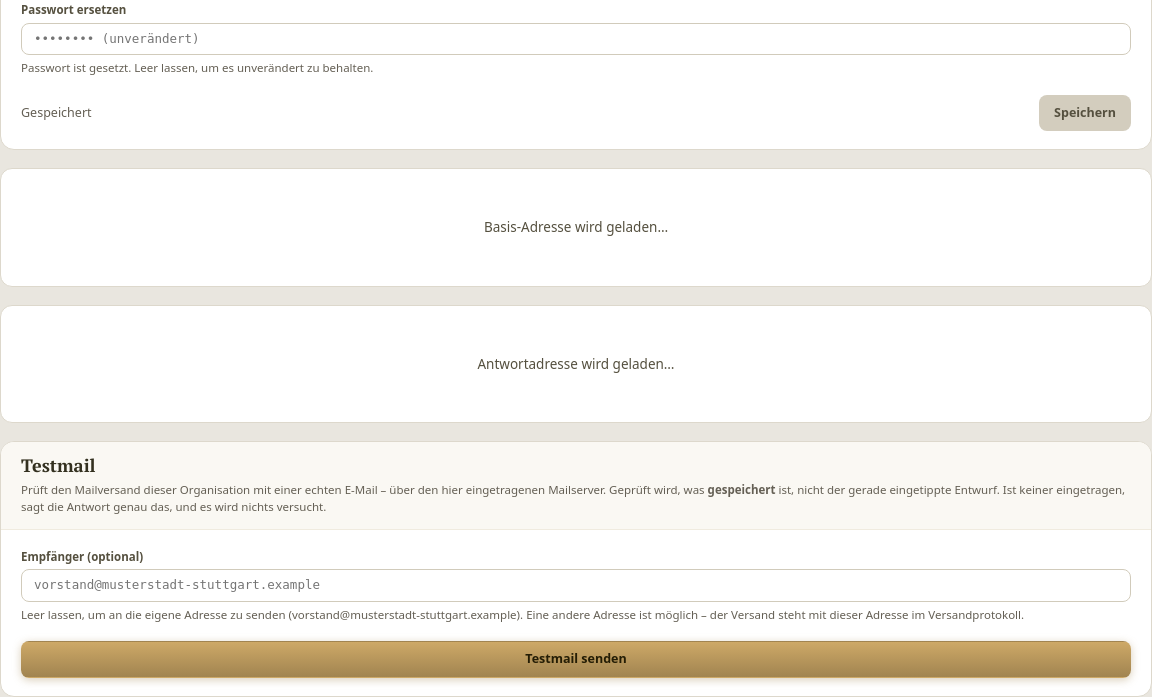
Test: MailIdentityCard › Testmail › shows the failure reason the server sent, without inventing one
The width and height of the screenshot is (1152, 697).
(page scrolled)
Step 1. Click the button "Testmail senden" → (576, 660), box [21, 641, 1131, 678]
(page scrolled)
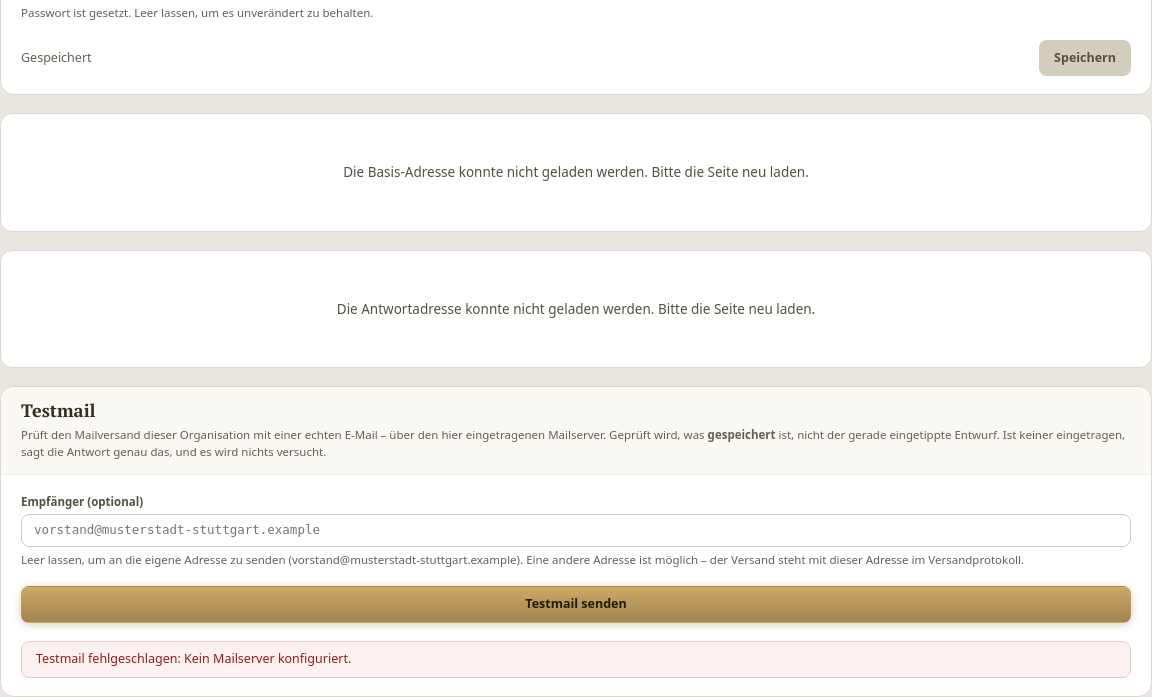
expect the text "Testmail fehlgeschlagen: Kein Mailserver konfiguriert." is shown: met, box [21, 641, 1131, 678]
